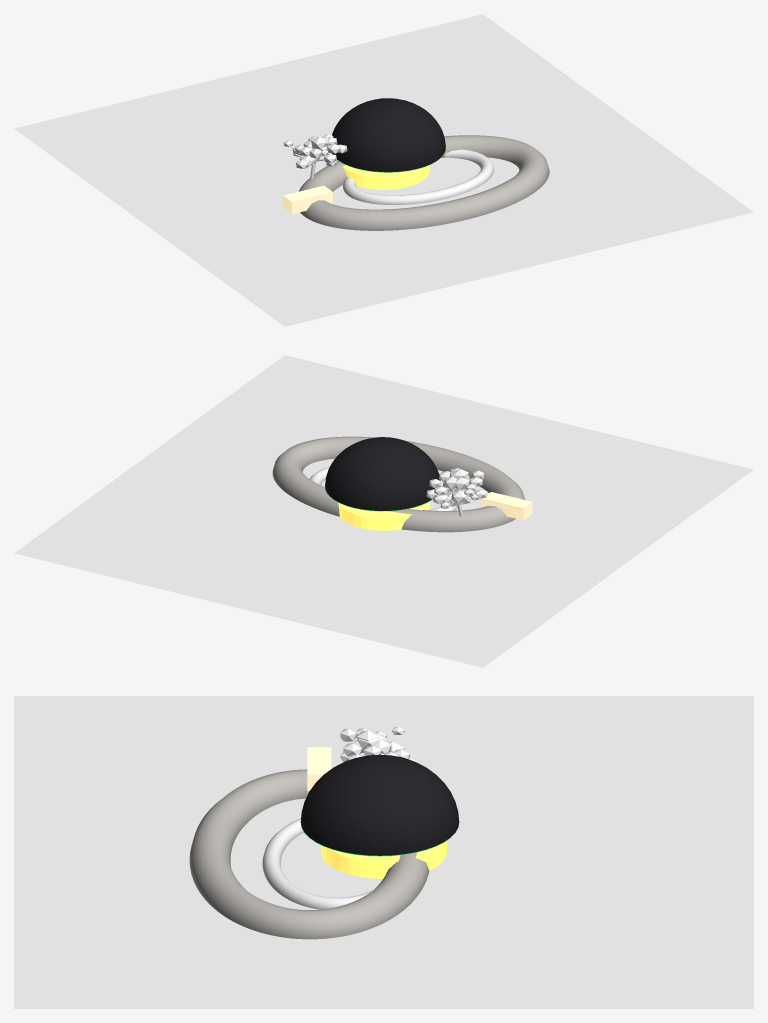
File: kcc.glb
The picture shows the model from 3 angles, top to bottom: view 1: azimuth 30°, elevation 25°; view 2: azimuth 150°, elevation 25°; view 3: azimuth 270°, elevation 25°; orthographic projection. The views are drawn at different scales.
Parts seen in each view (by area): view 1: Ground, RoadCurb, Dome_Ribs, Walkway, Podium, Tree, BackgroundBuilding; view 2: Ground, RoadCurb, Dome_Ribs, Tree, Podium, BackgroundBuilding; view 3: Ground, RoadCurb, Dome_Ribs, Walkway, Podium, Tree, BackgroundBuilding.
Part boxes in pixels (bbox=[...]): Ground: bbox=[14, 14, 753, 326]; RoadCurb: bbox=[299, 135, 549, 230]; Dome_Ribs: bbox=[331, 98, 445, 172]; Walkway: bbox=[343, 149, 493, 204]; Podium: bbox=[342, 165, 429, 189]; Tree: bbox=[283, 134, 347, 178]; BackgroundBuilding: bbox=[283, 185, 332, 213]; Ground: bbox=[14, 355, 753, 667]; RoadCurb: bbox=[272, 436, 525, 532]; Dome_Ribs: bbox=[325, 437, 440, 510]; Tree: bbox=[426, 468, 487, 516]; Podium: bbox=[338, 501, 429, 530]; BackgroundBuilding: bbox=[482, 492, 532, 520]; Ground: bbox=[14, 696, 753, 1008]; RoadCurb: bbox=[189, 769, 429, 939]; Dome_Ribs: bbox=[300, 754, 459, 855]; Walkway: bbox=[262, 818, 373, 909]; Podium: bbox=[321, 841, 446, 878]; Tree: bbox=[340, 727, 417, 762]; BackgroundBuilding: bbox=[307, 747, 331, 791].
Bounding box in the file's own units: 40 × 6.51 × 40.
